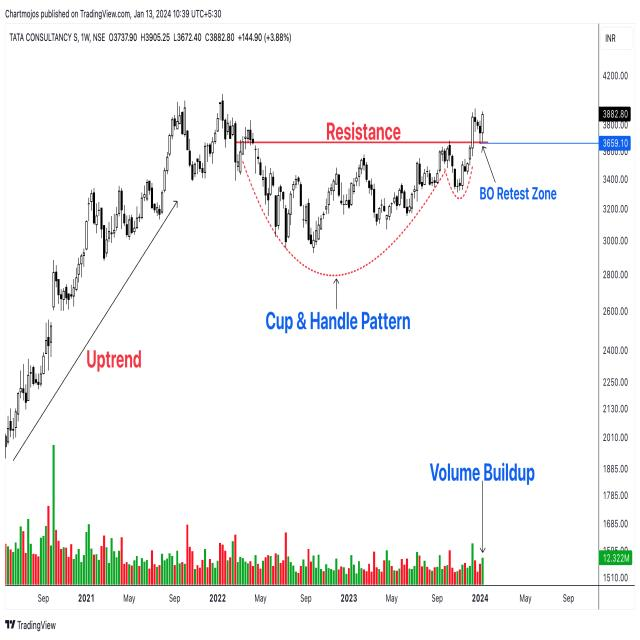Cup-and-handle: (237, 146, 482, 258)
